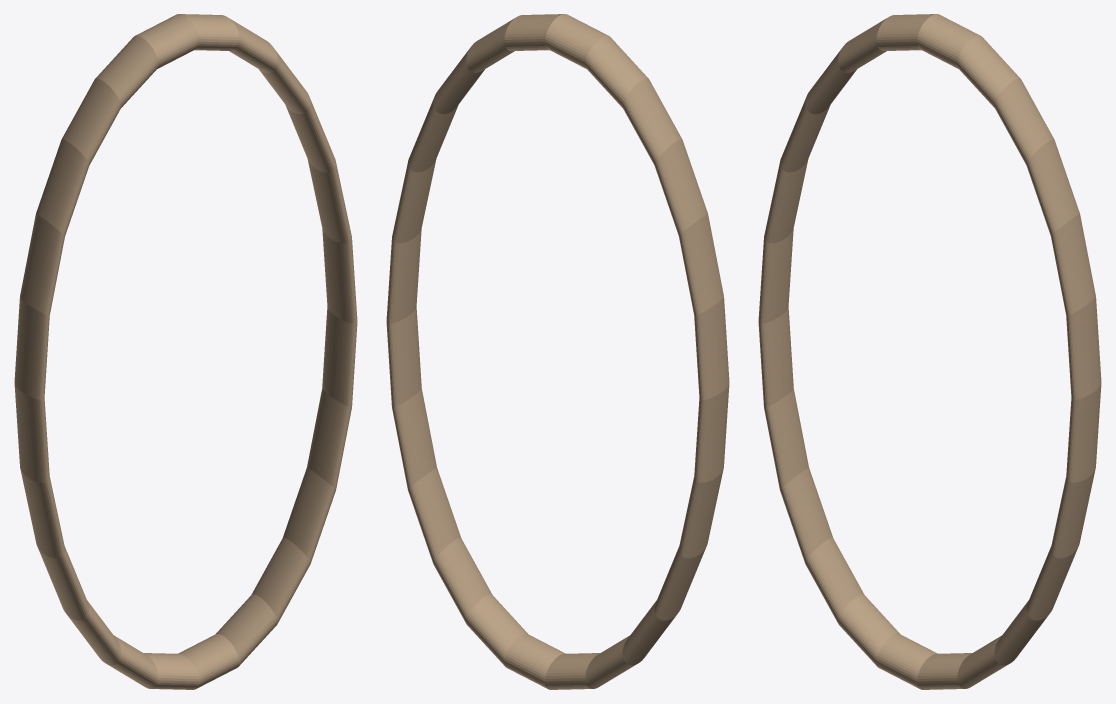
Rendered from OrnamentString.glb.
3 renders of one model, left to right at view 1: azimuth 30°, elevation 25°; view 2: azimuth 150°, elevation 25°; view 3: azimuth 330°, elevation 25°, orthographic.
Visible parts, largest first — view 1: Mesh_Mesh_head_geo.001_lambert2SG.001; view 2: Mesh_Mesh_head_geo.001_lambert2SG.001; view 3: Mesh_Mesh_head_geo.001_lambert2SG.001.
Part boxes in pixels (bbox=[...]): Mesh_Mesh_head_geo.001_lambert2SG.001: bbox=[14, 14, 357, 689]; Mesh_Mesh_head_geo.001_lambert2SG.001: bbox=[386, 14, 729, 689]; Mesh_Mesh_head_geo.001_lambert2SG.001: bbox=[758, 14, 1101, 689].
Bounding box in the file's own units: 17.4 × 34 × 2.4.
